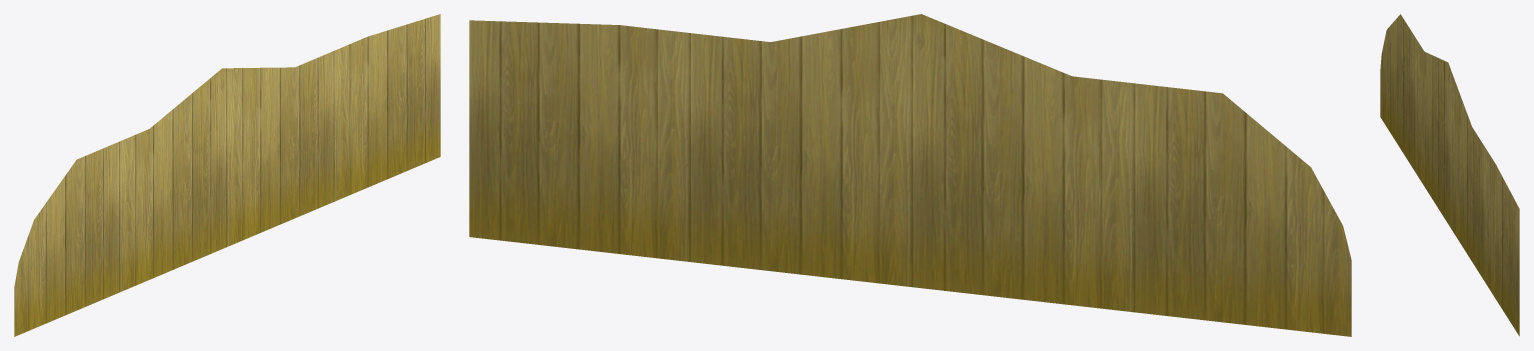
Rendered from HTOWN01_BAGROW1FRONT.fbx.
3 views of the same model, side by side, from view 1: azimuth 30°, elevation 25°; view 2: azimuth 150°, elevation 25°; view 3: azimuth 270°, elevation 25° (orthographic). The views are drawn at different scales.
Parts seen in each view (by area): view 1: HTOWN01_BAGROW1FRONT; view 2: HTOWN01_BAGROW1FRONT; view 3: HTOWN01_BAGROW1FRONT.
Boxes of the visible parts, x1,y1,x2,y2 form: HTOWN01_BAGROW1FRONT: (14,14,440,336); HTOWN01_BAGROW1FRONT: (469,14,1351,336); HTOWN01_BAGROW1FRONT: (1380,14,1519,336).
Size of the model in its own units: 88038 by 30190 by 23590.
1 material, 1 textured.
